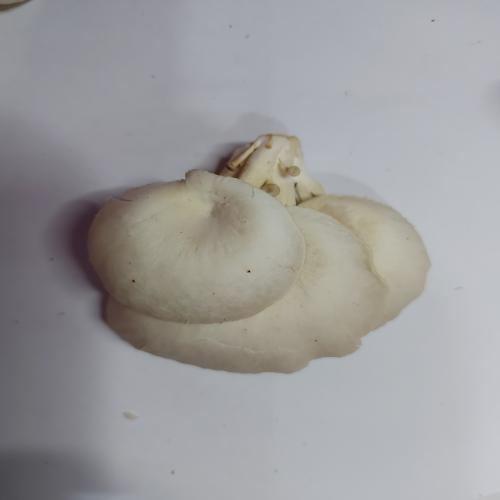Oyster Mushroom: (85, 133, 431, 374)
